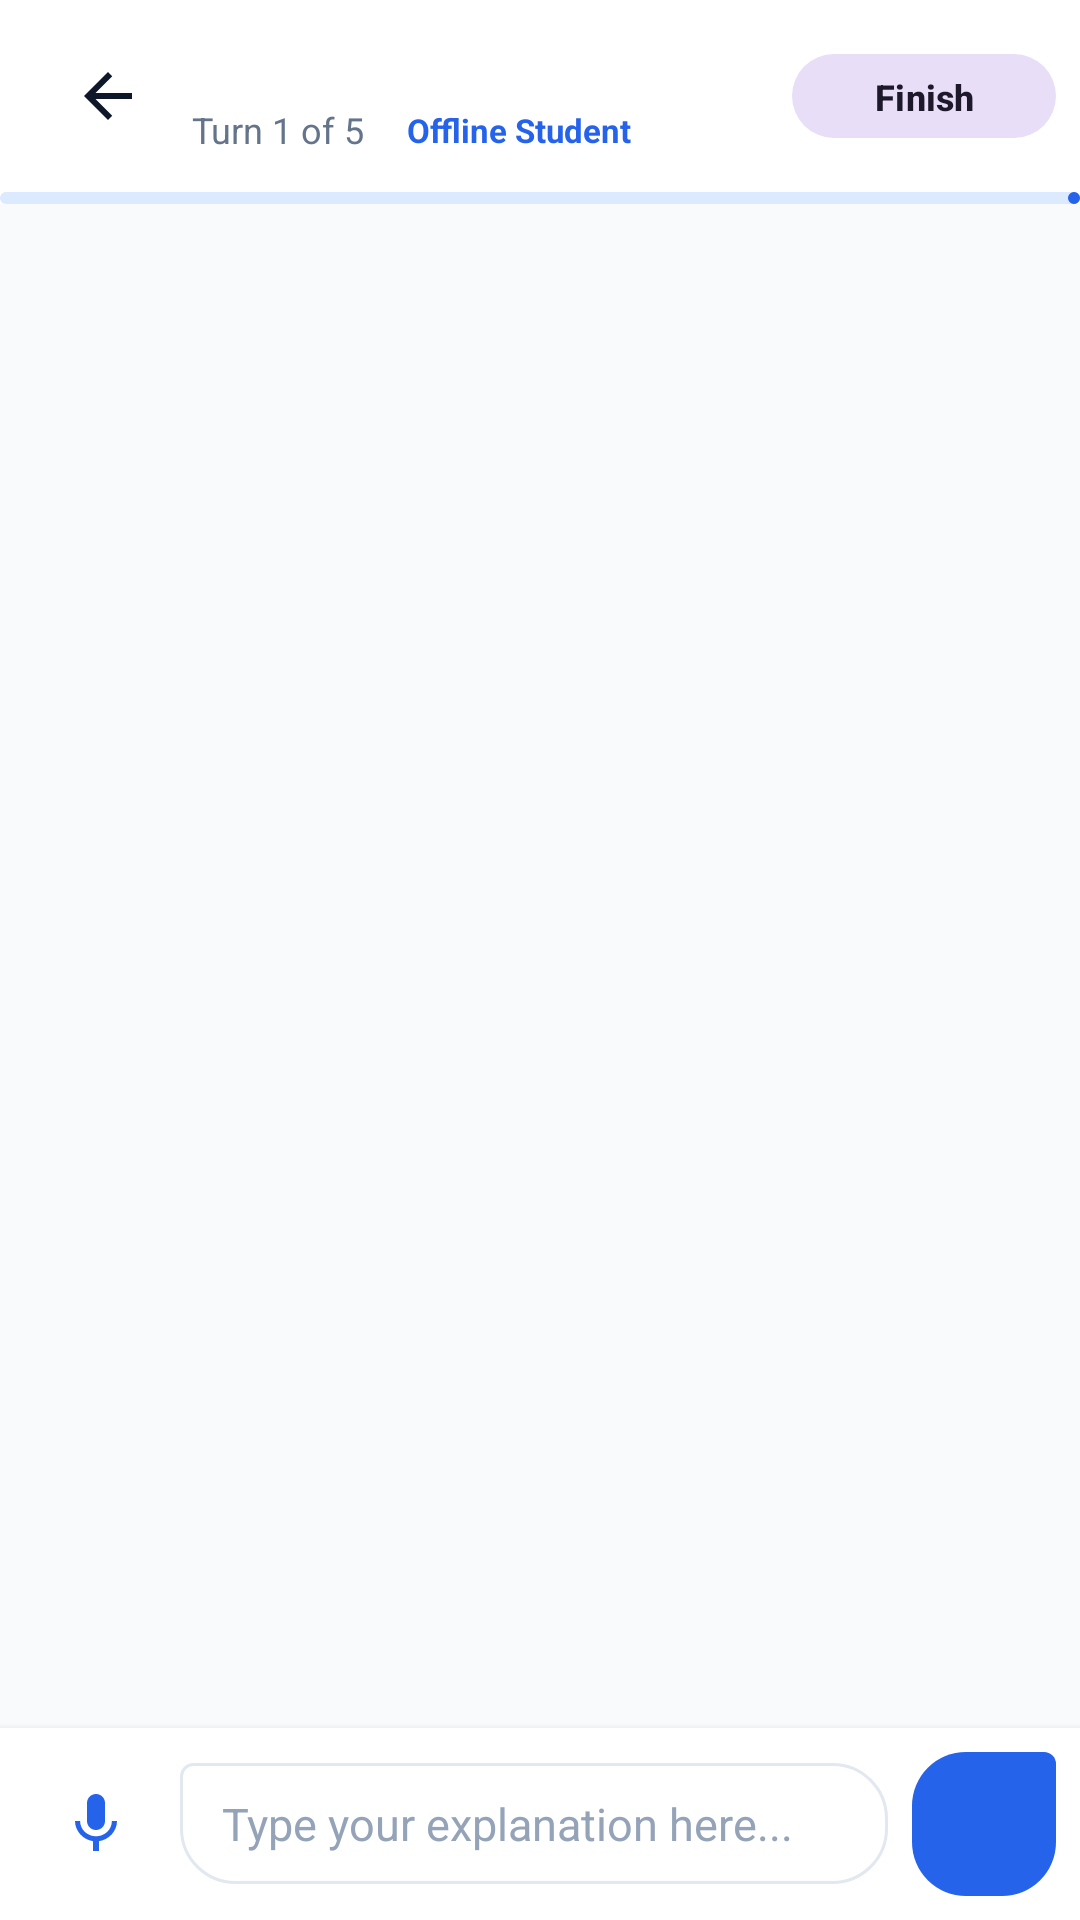

Icons on this 1080px x 1920px Android screen, each with its box as [x1, y1, x2, y2]:
Back: [84, 72, 132, 120]
Voice Input: [75, 1794, 117, 1851]
